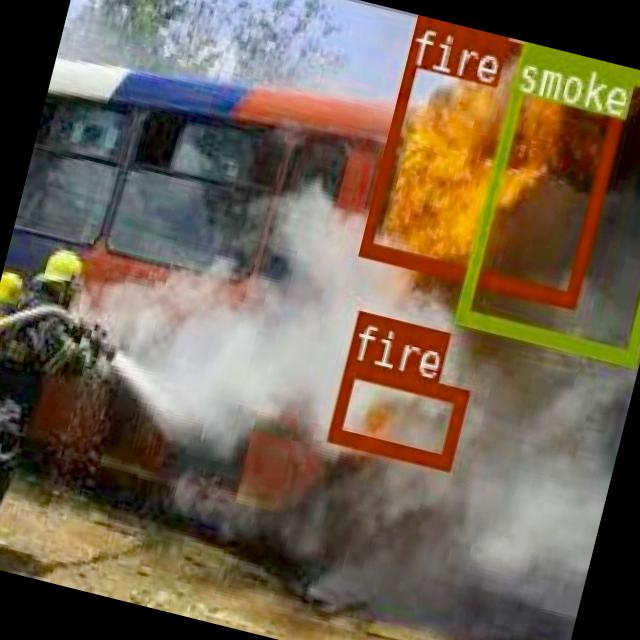fire: (356, 14, 629, 302), (323, 360, 467, 470)
smoke: (453, 41, 640, 365)
